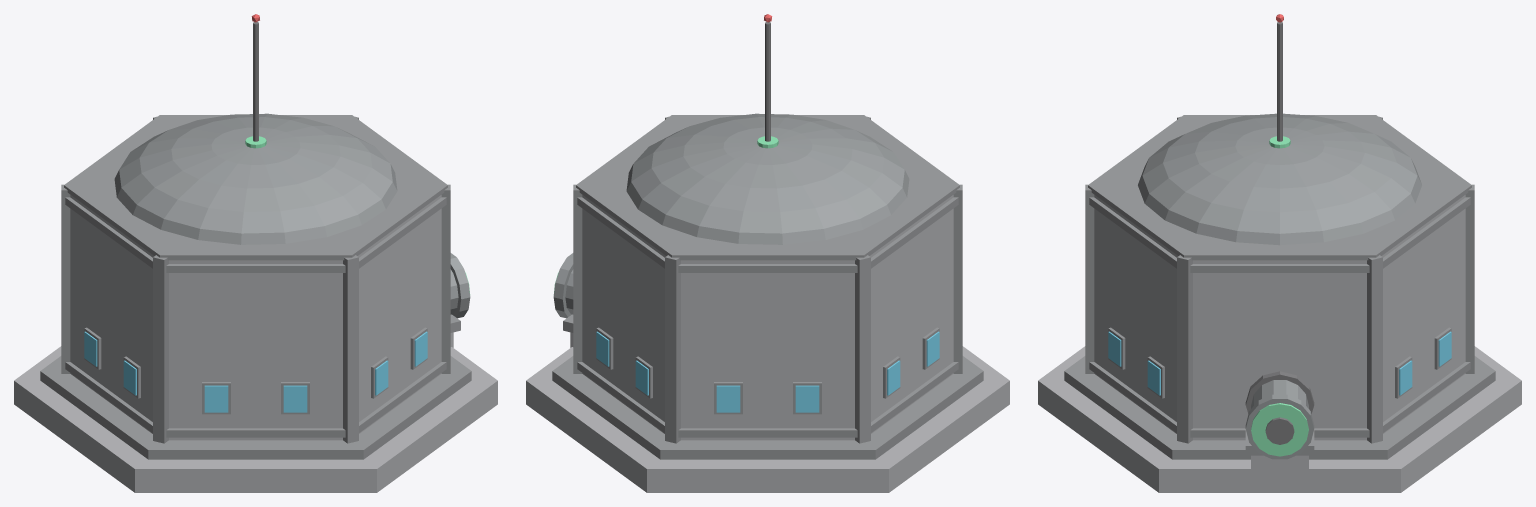
File: analysis_center_s1_100.glb
The picture shows the model from 3 angles, left to right: view 1: azimuth 30°, elevation 25°; view 2: azimuth 150°, elevation 25°; view 3: azimuth 270°, elevation 25°; orthographic projection.
Visible parts, largest first — view 1: AC_Walls, AC_Dome, AC_Base, AC_Roof, AC_BaseCap, AC_Band_Low, AC_Band_High, AC_Beam_3, AC_Beam_4, AC_Beam_2, AC_Beam_5, AC_Flange_0_disc (+3 smaller); view 2: AC_Walls, AC_Dome, AC_Base, AC_Roof, AC_BaseCap, AC_Band_Low, AC_Band_High, AC_Beam_1, AC_Beam_2, AC_Beam_0, AC_Beam_3, AC_Flange_0_disc (+3 smaller); view 3: AC_Walls, AC_Dome, AC_Base, AC_Roof, AC_BaseCap, AC_Band_High, AC_Band_Low, AC_Beam_0, AC_Beam_5, AC_Flange_0_led, AC_Beam_1, AC_Beam_4 (+6 smaller).
Boxes of the visible parts, left/top/right/bottom form: AC_Walls: left=70, top=195, right=441, bottom=440; AC_Dome: left=114, top=113, right=397, bottom=244; AC_Base: left=14, top=346, right=497, bottom=492; AC_Roof: left=64, top=115, right=447, bottom=260; AC_BaseCap: left=40, top=356, right=471, bottom=459; AC_Band_Low: left=65, top=362, right=446, bottom=437; AC_Band_High: left=65, top=197, right=446, bottom=272; AC_Beam_3: left=153, top=255, right=168, bottom=443; AC_Beam_4: left=343, top=255, right=358, bottom=443; AC_Beam_2: left=61, top=184, right=70, bottom=373; AC_Beam_5: left=441, top=184, right=450, bottom=373; AC_Flange_0_disc: left=450, top=253, right=470, bottom=318; AC_Walls: left=582, top=195, right=953, bottom=440; AC_Dome: left=626, top=113, right=909, bottom=244; AC_Base: left=526, top=346, right=1009, bottom=492; AC_Roof: left=576, top=115, right=959, bottom=260; AC_BaseCap: left=552, top=356, right=983, bottom=459; AC_Band_Low: left=577, top=362, right=958, bottom=437; AC_Band_High: left=577, top=197, right=958, bottom=272; AC_Beam_1: left=665, top=255, right=680, bottom=443; AC_Beam_2: left=855, top=255, right=870, bottom=443; AC_Beam_0: left=573, top=184, right=582, bottom=373; AC_Beam_3: left=953, top=184, right=962, bottom=373; AC_Flange_0_disc: left=553, top=253, right=573, bottom=318; AC_Walls: left=1094, top=195, right=1465, bottom=440; AC_Dome: left=1138, top=113, right=1421, bottom=245; AC_Base: left=1038, top=346, right=1521, bottom=492; AC_Roof: left=1088, top=115, right=1471, bottom=260; AC_BaseCap: left=1064, top=356, right=1495, bottom=459; AC_Band_High: left=1089, top=197, right=1470, bottom=272; AC_Band_Low: left=1089, top=362, right=1470, bottom=437; AC_Beam_0: left=1367, top=255, right=1382, bottom=443; AC_Beam_5: left=1177, top=255, right=1192, bottom=443; AC_Flange_0_led: left=1251, top=403, right=1308, bottom=456; AC_Beam_1: left=1465, top=184, right=1474, bottom=373; AC_Beam_4: left=1085, top=184, right=1094, bottom=373.
Bounding box in the file's own units: 1.69 × 1.64 × 1.84.
